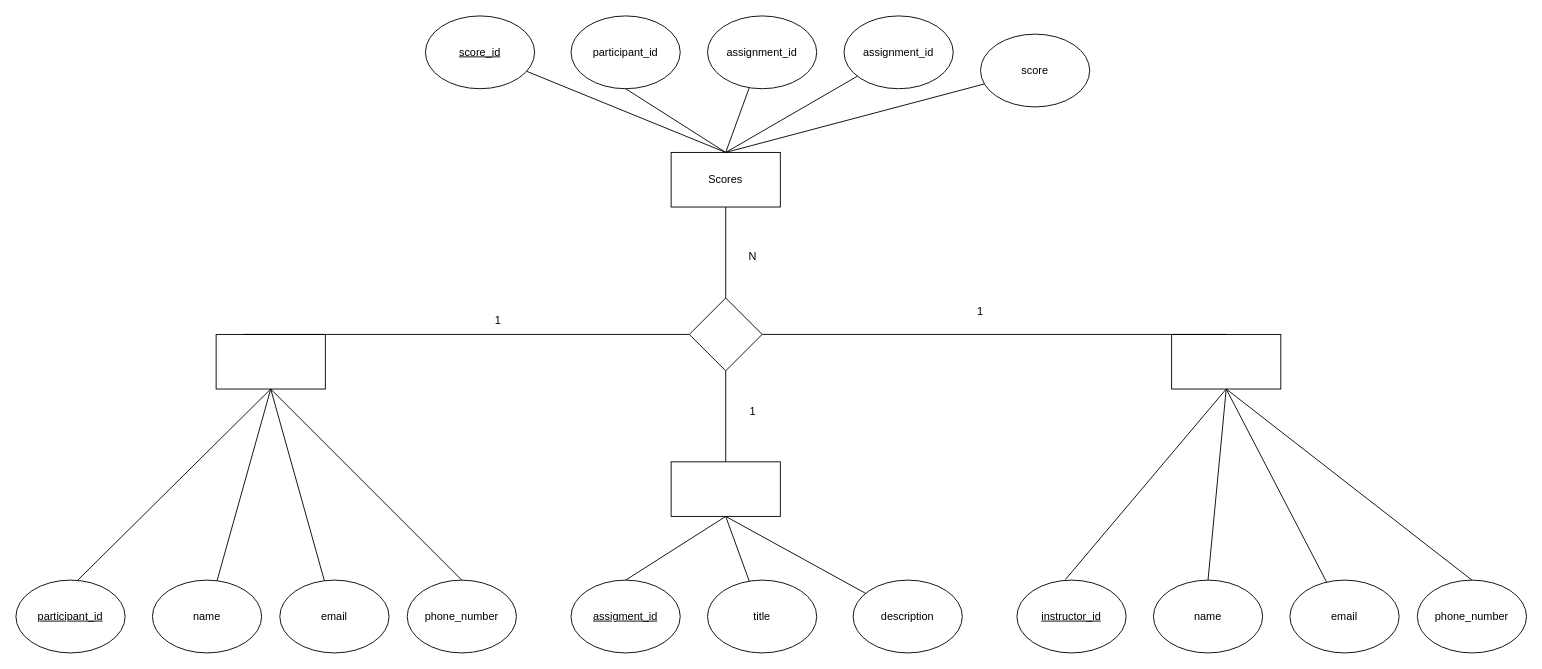
Some shapes in this 1542 by 669 pixel diagram are drawn without their labels. Each missing label, with the centre of its shape:
Assigments: [725,488]
Has: [725,334]
Instructors: [1226,361]
Participants: [270,361]
